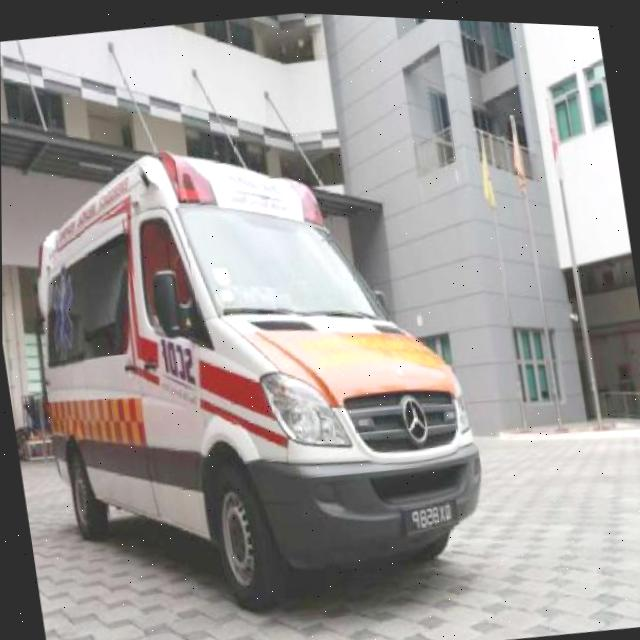emergency: (7, 103, 500, 640)
